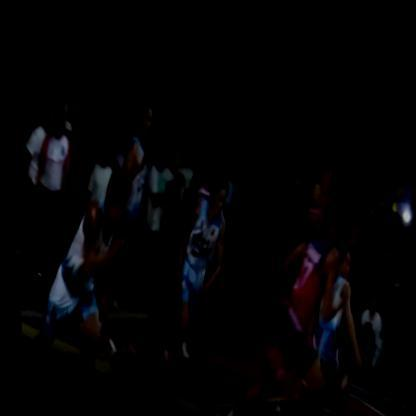basketball: (319, 371, 349, 416)
